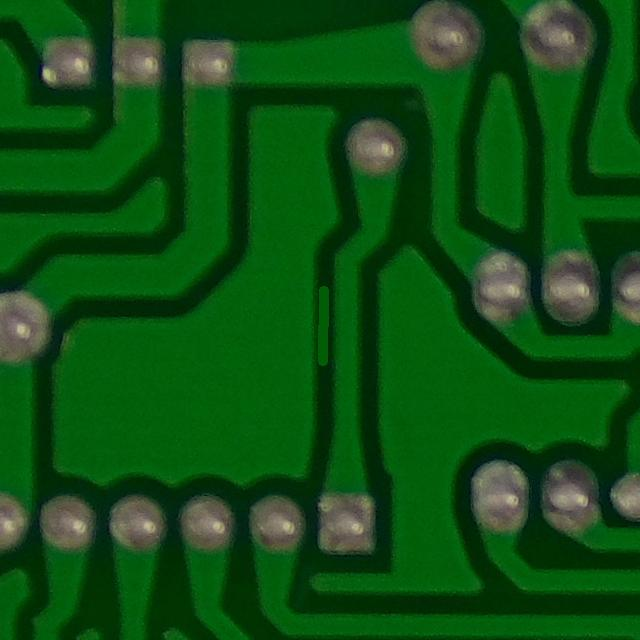spurious_copper: (290, 259, 351, 381)
